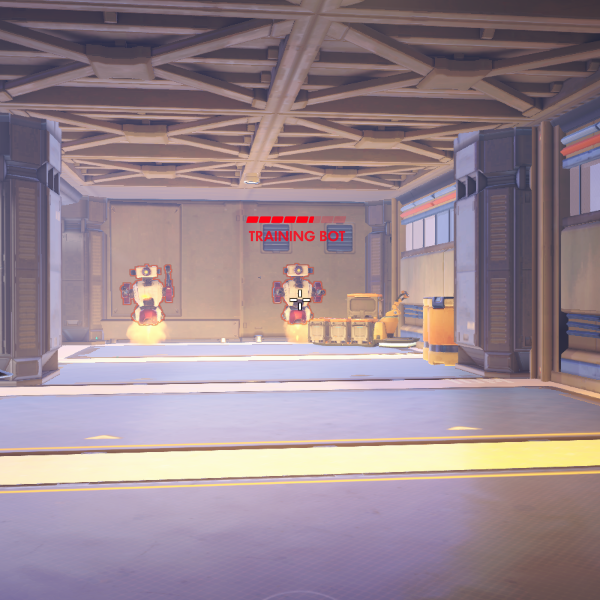hpbar: (246, 216, 347, 224)
